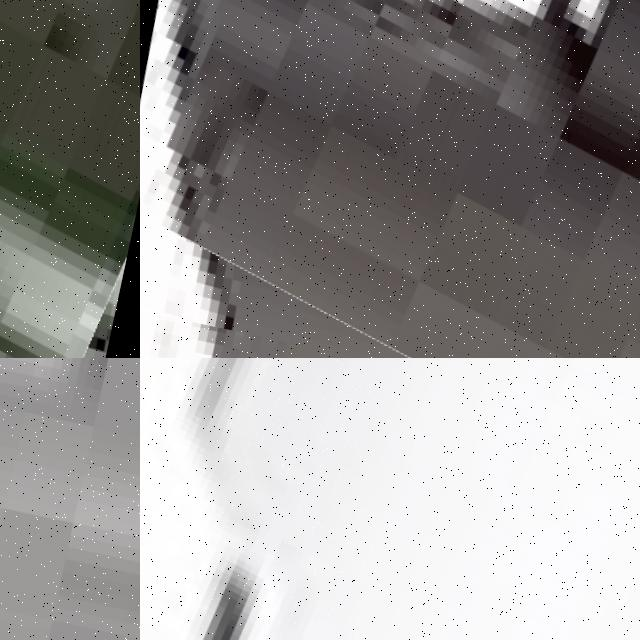drone: (140, 0, 640, 358), (140, 358, 640, 640), (0, 0, 140, 358)
